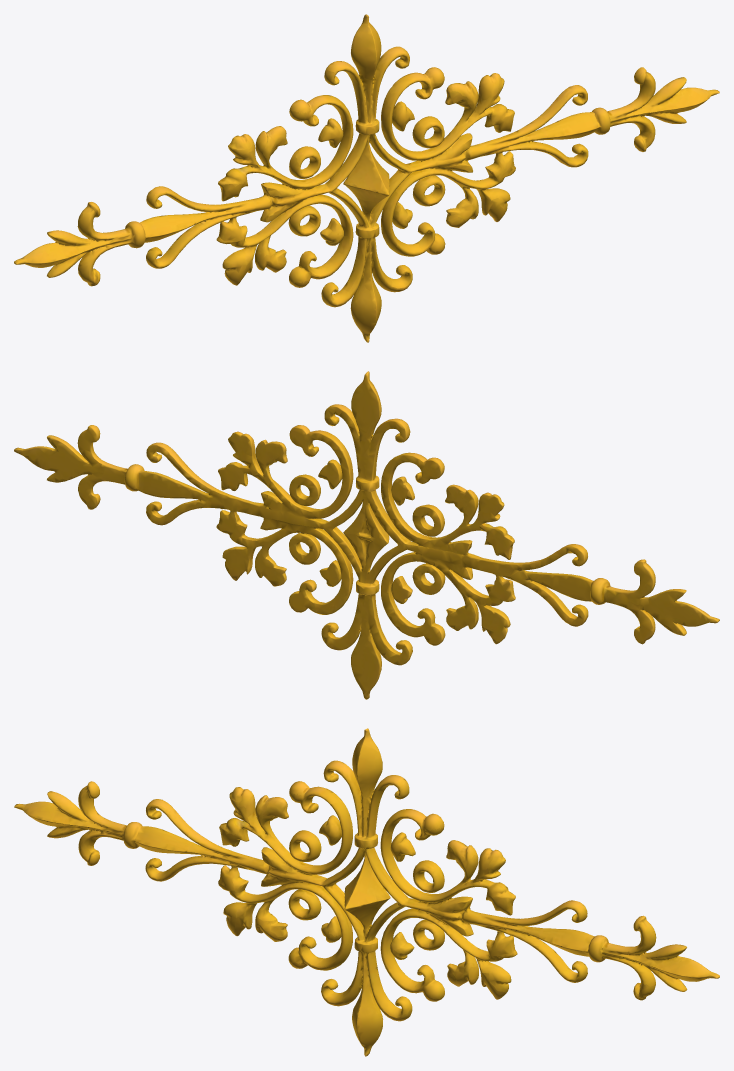
3 renders of one model, top to bottom at view 1: azimuth 30°, elevation 25°; view 2: azimuth 150°, elevation 25°; view 3: azimuth 330°, elevation 25°, orthographic.
Size of the model in its own units: 1.9 by 0.8436 by 0.1314.
Materials: 1 (1 with a texture image).
